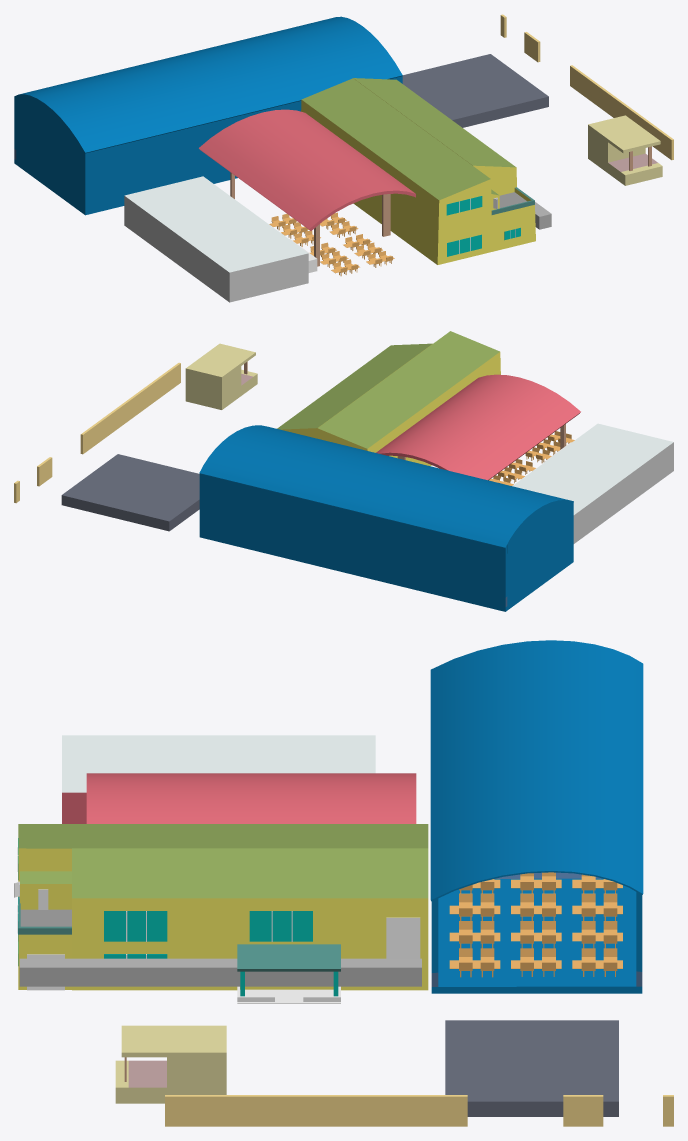
File: Canteen.glb
The picture shows the model from 3 angles, top to bottom: view 1: azimuth 30°, elevation 25°; view 2: azimuth 150°, elevation 25°; view 3: azimuth 270°, elevation 25°; orthographic projection. The views are drawn at different scales.
Parts seen in each view (by area): view 1: pPlane4, polySurface8, polySurface62, pCube1, pPlane3, pPlane5, polySurface56, pCube39; view 2: pPlane4, polySurface8, pPlane3, polySurface62, pCube1, pPlane5, polySurface56, pCube39; view 3: polySurface8, pPlane4, polySurface62, pPlane3, pPlane5, pCube1, pCube92, pCube39, polySurface56, pCube83, pCube76, pCube74 (+8 smaller).
Boxes of the visible parts, left/top/right/bottom form: pPlane4: left=14, top=16, right=402, bottom=215; polySurface8: left=301, top=78, right=535, bottom=264; polySurface62: left=16, top=53, right=254, bottom=154; pCube1: left=124, top=176, right=308, bottom=302; pPlane3: left=199, top=109, right=415, bottom=230; pPlane5: left=402, top=54, right=548, bottom=127; polySurface56: left=588, top=115, right=662, bottom=185; pCube39: left=570, top=65, right=673, bottom=160; pPlane4: left=199, top=425, right=573, bottom=611; polySurface8: left=277, top=331, right=500, bottom=466; pPlane3: left=376, top=374, right=580, bottom=480; polySurface62: left=342, top=460, right=571, bottom=553; pCube1: left=512, top=423, right=673, bottom=543; pPlane5: left=61, top=454, right=199, bottom=531; polySurface56: left=185, top=343, right=257, bottom=409; pCube39: left=80, top=362, right=180, bottom=454; polySurface8: left=14, top=824, right=428, bottom=1003; pPlane4: left=430, top=661, right=643, bottom=993; polySurface62: left=430, top=640, right=643, bottom=792; pPlane3: left=86, top=773, right=416, bottom=823; pPlane5: left=445, top=1020, right=618, bottom=1116; pCube1: left=62, top=735, right=375, bottom=823; pCube92: left=19, top=958, right=421, bottom=986; pCube39: left=165, top=1095, right=467, bottom=1126; polySurface56: left=115, top=1025, right=226, bottom=1103; pCube83: left=563, top=1095, right=603, bottom=1126; pCube76: left=572, top=893, right=622, bottom=920; pCube74: left=449, top=893, right=500, bottom=920.
Size of the model in its own units: 40.53 by 7.11 by 31.17.
